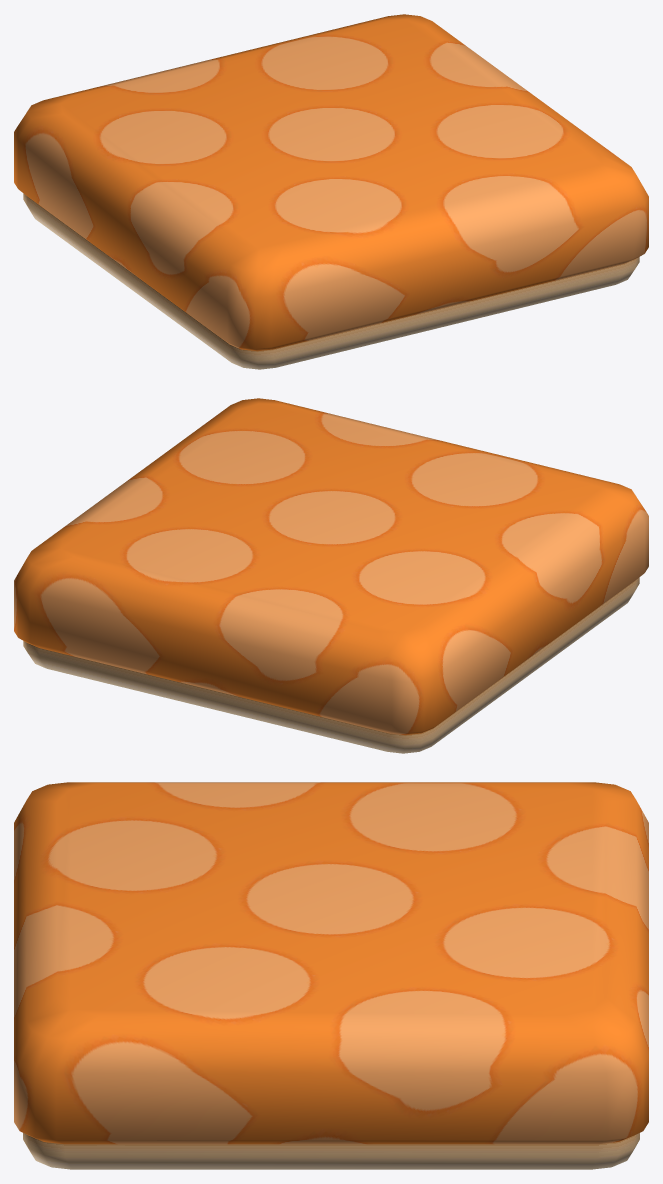
File: TrampolineMiddle.fbx
3 renders of one model, top to bottom at view 1: azimuth 30°, elevation 25°; view 2: azimuth 150°, elevation 25°; view 3: azimuth 270°, elevation 25°, orthographic. The views are drawn at different scales.
Visible parts, largest first — view 1: Plane; view 2: Plane; view 3: Plane.
Boxes of the visible parts, x1,y1,x2,y2 form: Plane: (14, 14, 648, 369); Plane: (14, 398, 648, 753); Plane: (14, 782, 648, 1169).
Bounding box in the file's own units: 38338 × 9948 × 38338.
2 materials, 2 textured.
